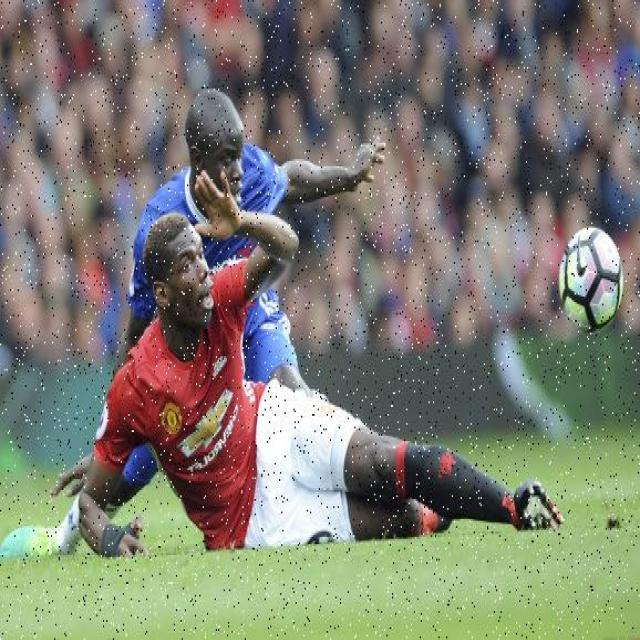fall: (126, 219, 524, 555)
